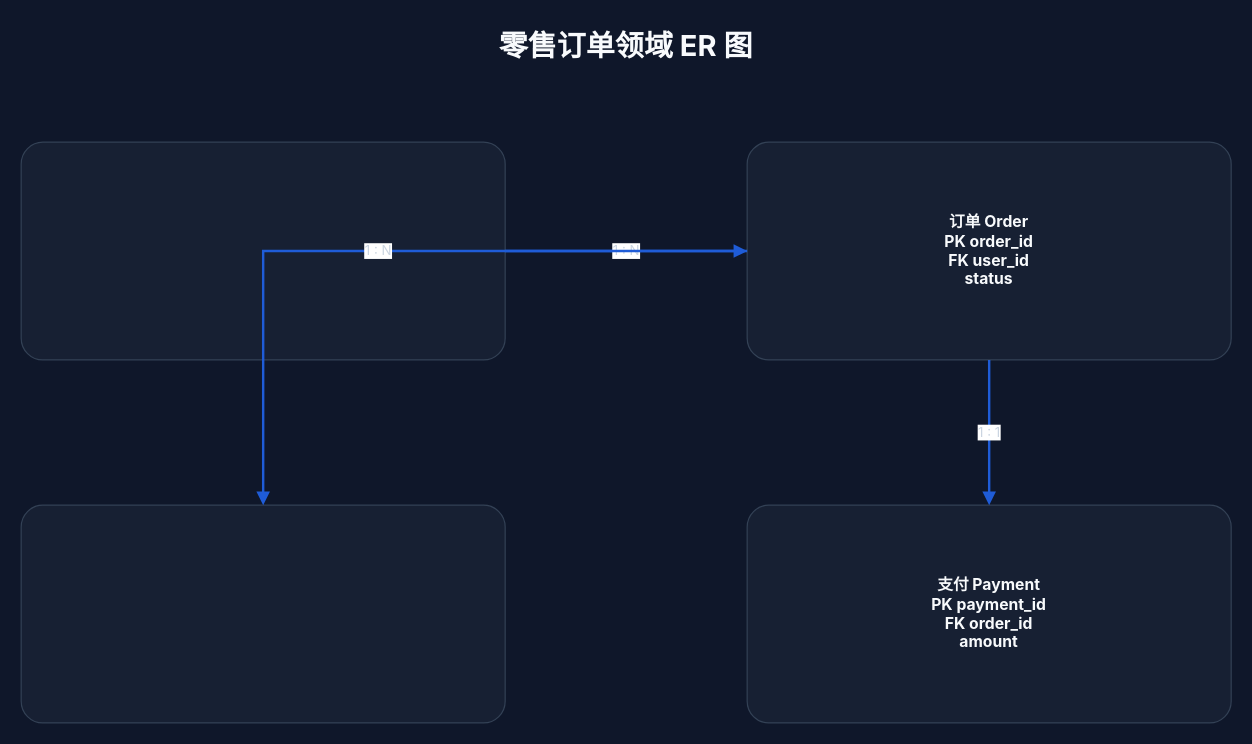
This 1252x744 diagram has some shape labels left out. The box of each missing label's shape, as (x1, y1, x2, y2) in pixels:
用户 User PK user_id name mobile: (20, 141, 505, 360)
订单项 Item PK item_id FK order_id quantity: (20, 504, 505, 723)
